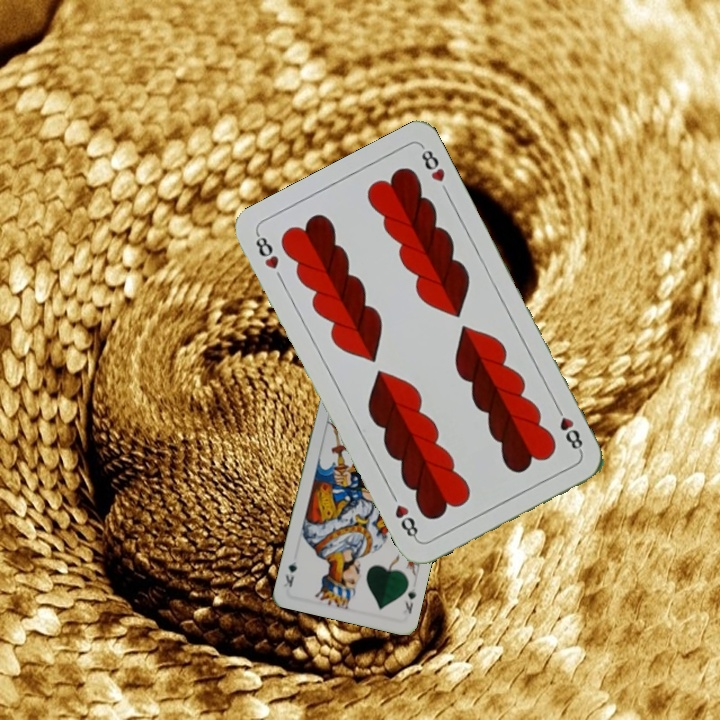GK: (399, 583, 419, 619)
H8: (551, 401, 586, 456), (251, 229, 282, 272)
